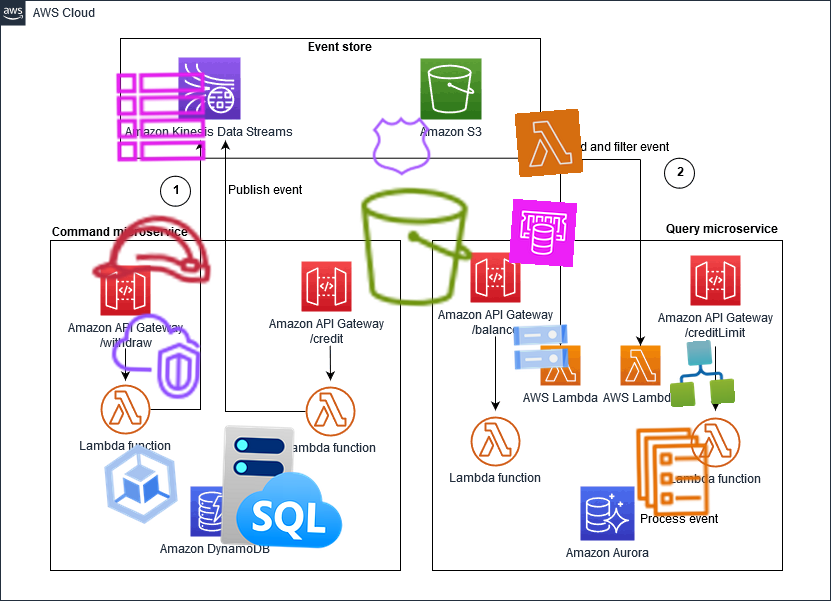aws_amazon_elasticache: (508, 198, 578, 268)
aws_dynamodb_table: (112, 68, 210, 166)
aws_elastic_container_service_service: (624, 423, 722, 521)
aws_identity_access_management_role: (83, 180, 223, 320)
aws_lambda: (514, 108, 584, 178)
aws_route_53_hosted_zone: (369, 113, 435, 179)
aws_simple_storage_service_bucket: (349, 180, 483, 314)
aws_vpc_virtual_private_cloud_vpc: (106, 306, 206, 406)
azure_logic_apps: (666, 338, 736, 408)
azure_sql_managed_instance: (216, 420, 350, 554)
gcp_cloud_storage: (507, 313, 575, 381)
gcp_google_kubernetes_engine: (89, 432, 193, 536)
